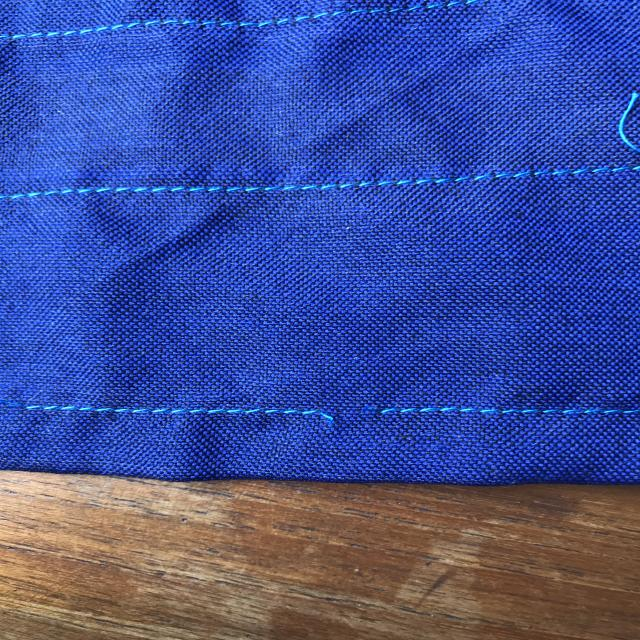broken: (304, 391, 414, 435)
good: (232, 172, 363, 213)
